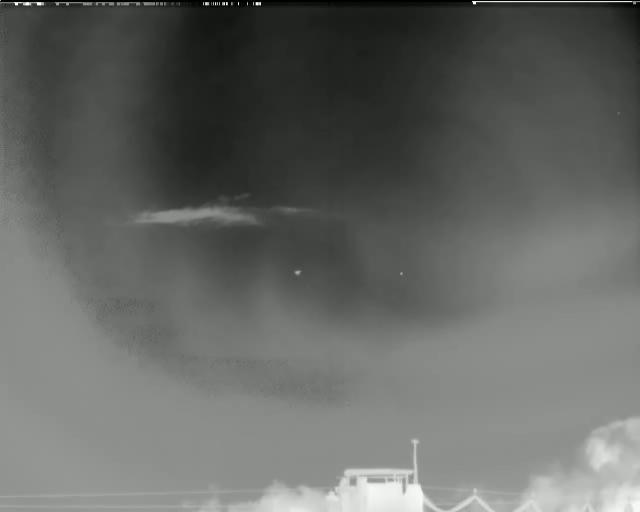uav: (293, 269, 303, 278)
